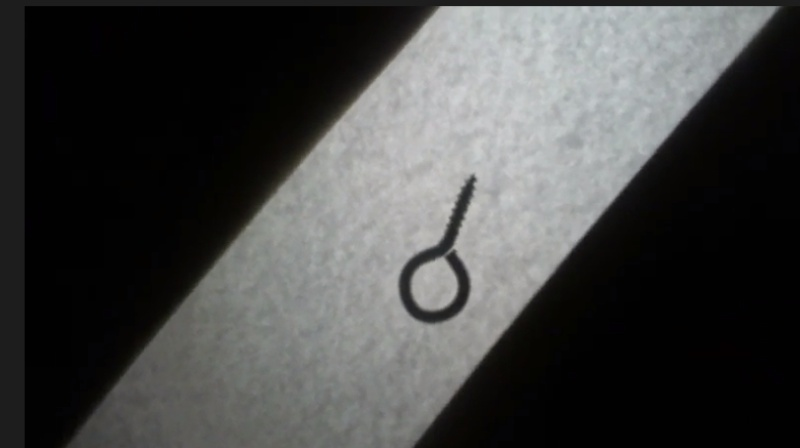O001: (393, 170, 480, 326)
